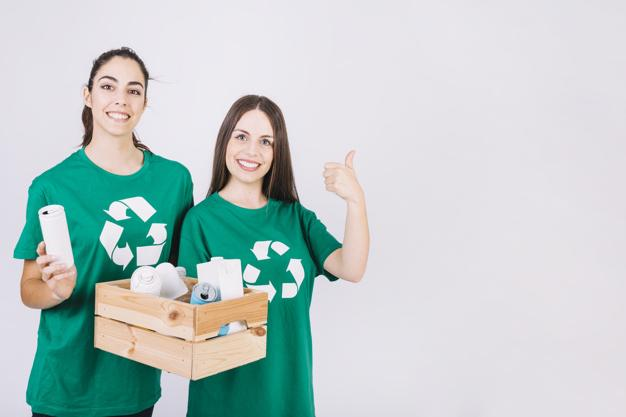thumbsup: (323, 150, 356, 192)
